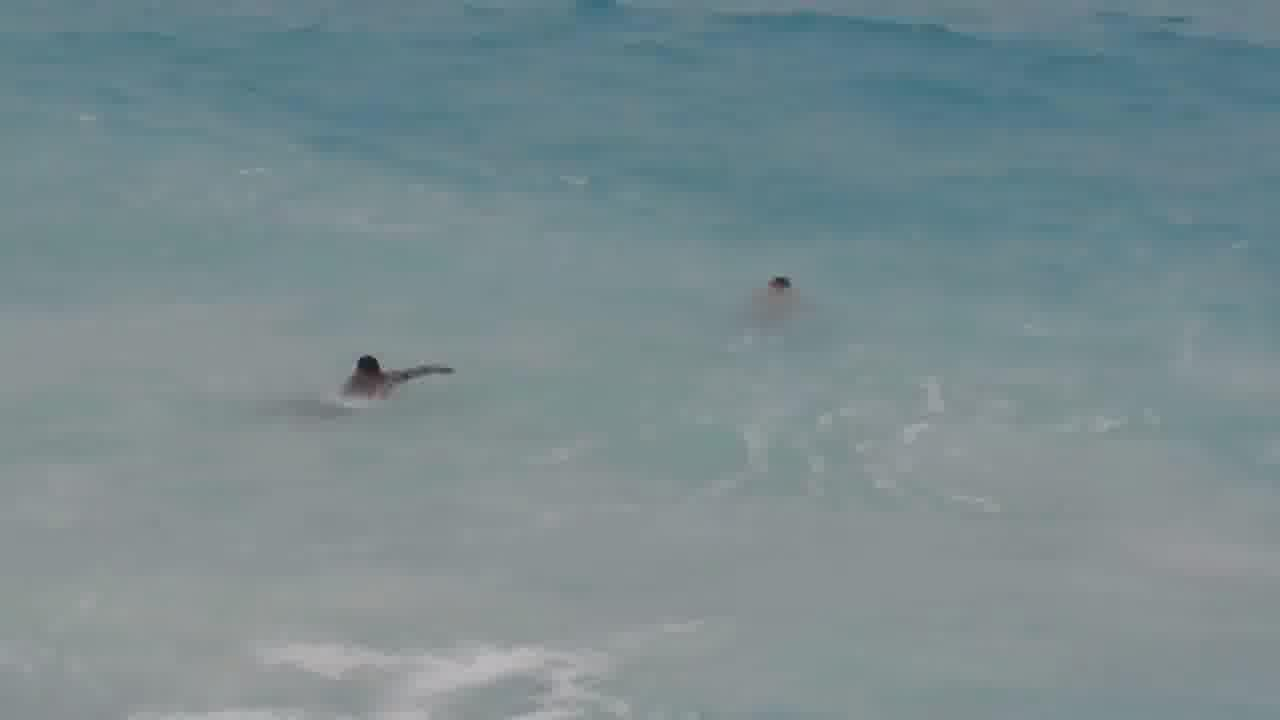human: (339, 340, 422, 408), (765, 257, 805, 312)
